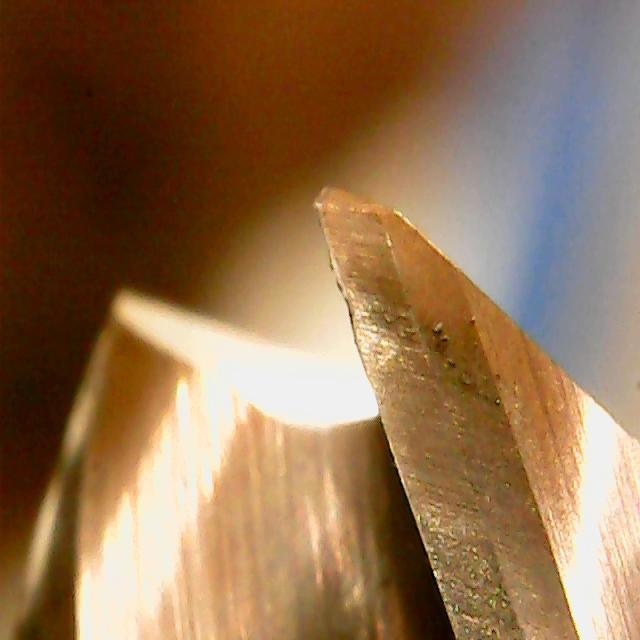Tool-wear-class-1: (296, 181, 479, 398)
